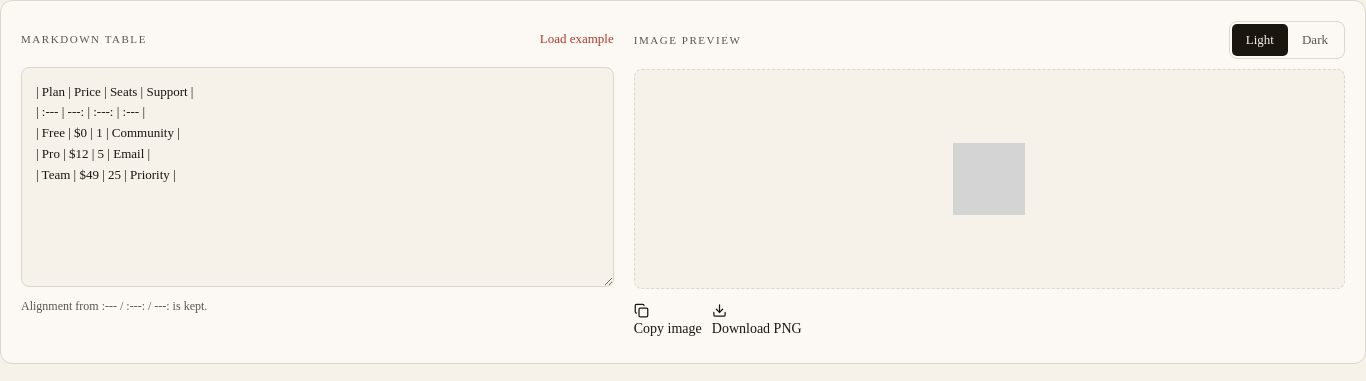
Test: TableImageTool › shows a fallback hint when the clipboard rejects the image
Step 1. Click the button "Copy image" → (668, 321), box [634,299,702,343]
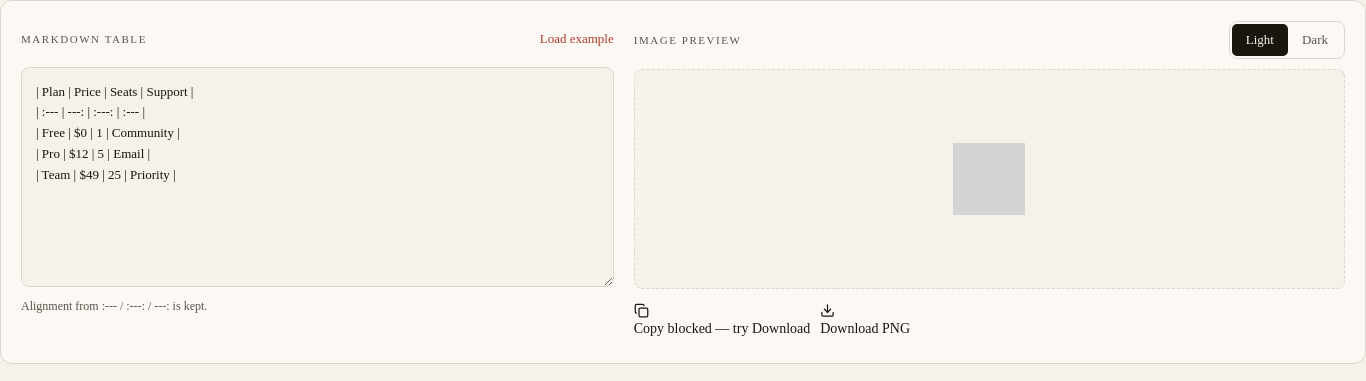
Expected: the button "Copy blocked — try Download" is shown, [634,299,810,343]
